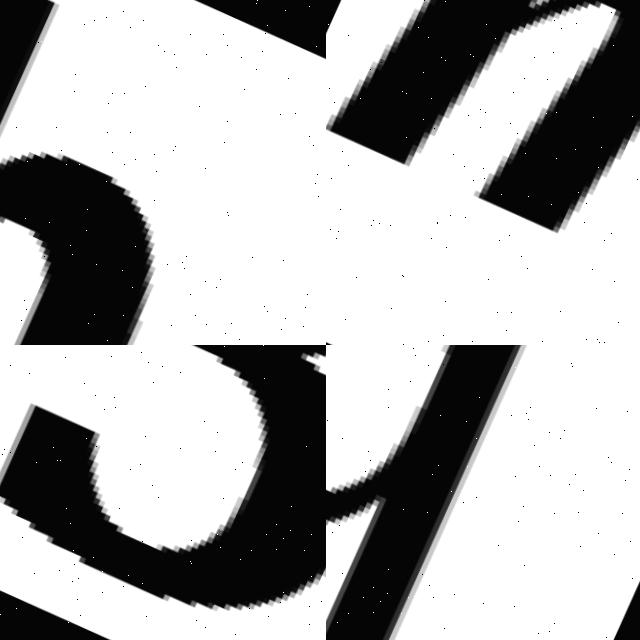3: (0, 345, 326, 640)
H: (0, 153, 150, 345)
M: (326, 0, 640, 345)
Q: (326, 345, 640, 640)
